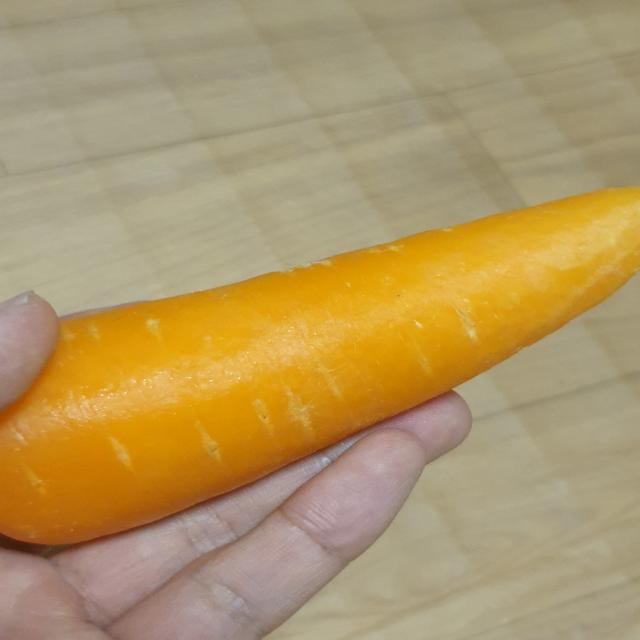carrot: (0, 179, 640, 556)
